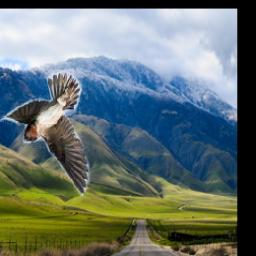Swallow: (0, 70, 90, 196)
